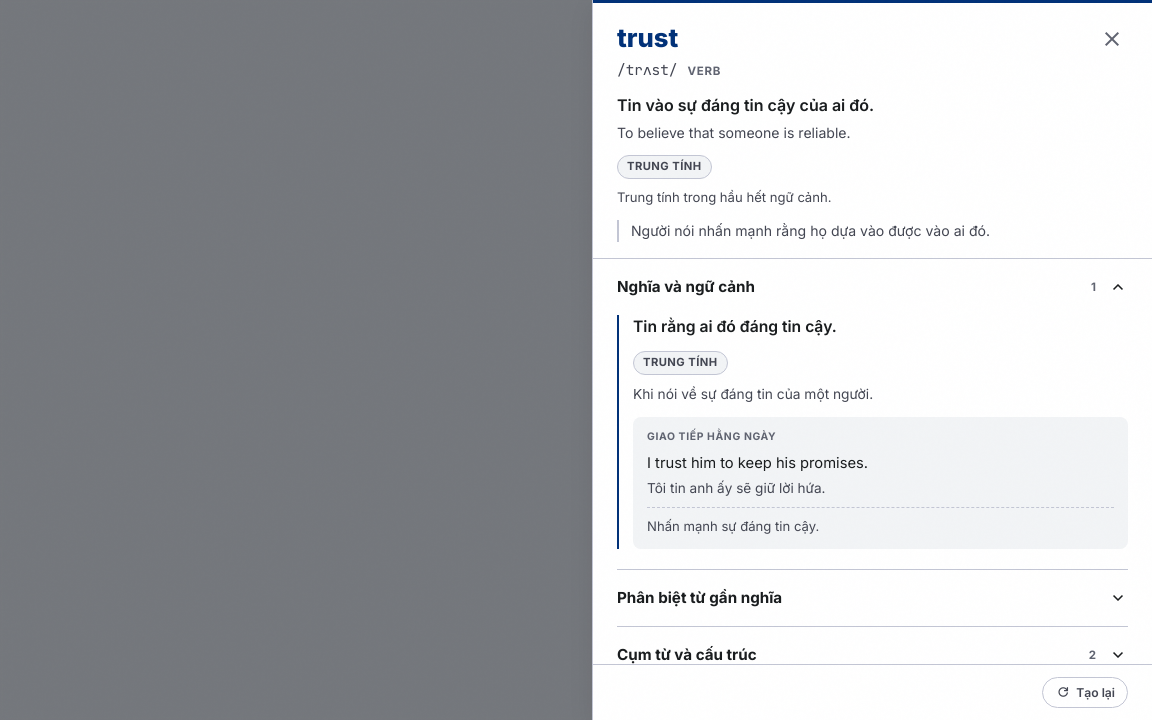
Test: VocabInsightPanel › expands a section on demand without losing the others
Click the button "Phân biệt từ gần nghĩa": {"x": 700, "y": 597} [617,570,1128,626]
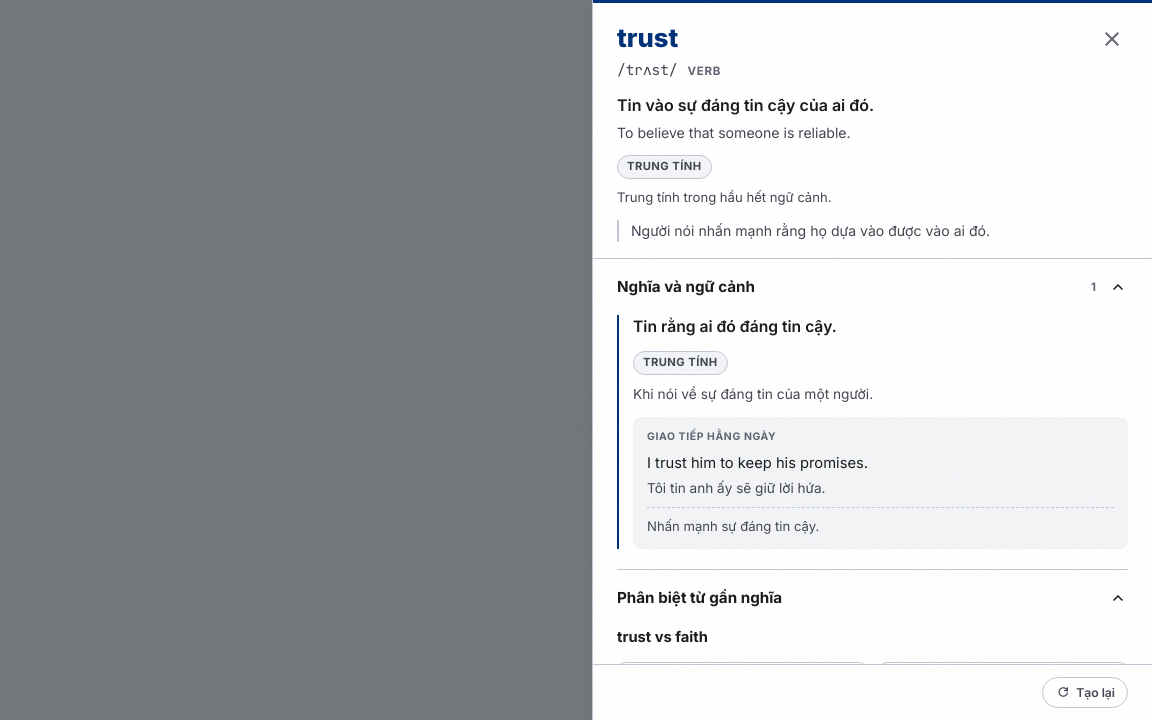
expect the text "Tin rằng ai đó đáng tin cậy." is shown: met, box [633,318,837,336]
expect the heading "trust vs faith" is shown: met, box [617,628,708,646]
